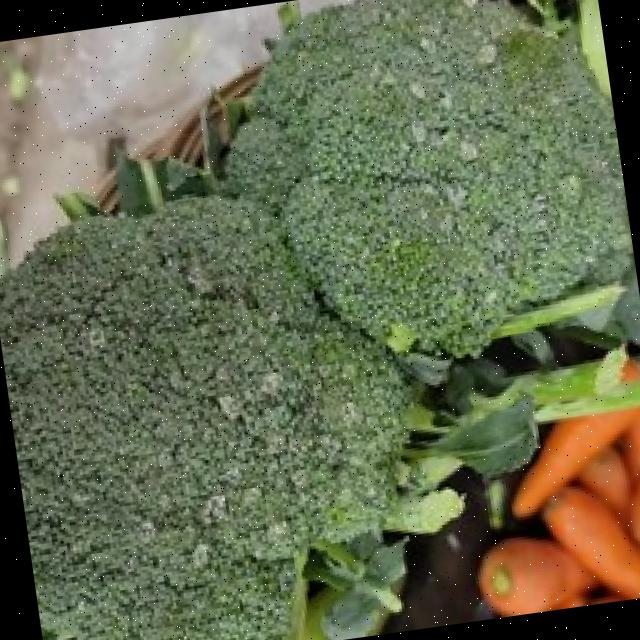Broccoli: (0, 196, 410, 640), (0, 196, 409, 640), (227, 0, 629, 357), (227, 0, 628, 357)
